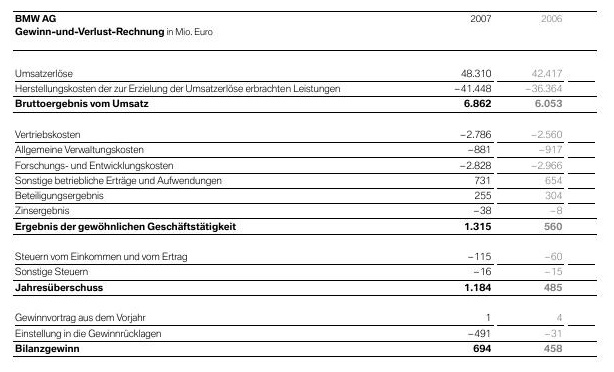table: (0, 0, 614, 372)
